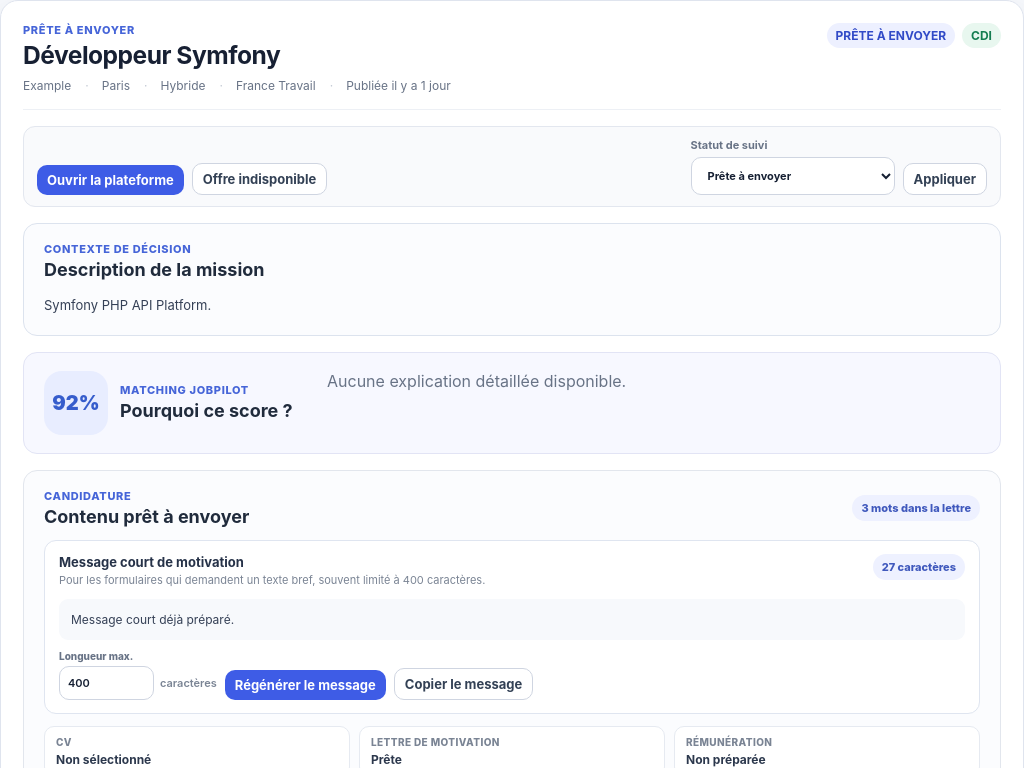
Test case: Review Queue motivation message › regenerates only the message with the chosen maximum length
Replace the text in the number field named "Longueur maximale du message court" with "250" at (106, 683), box [59,666,154,700]
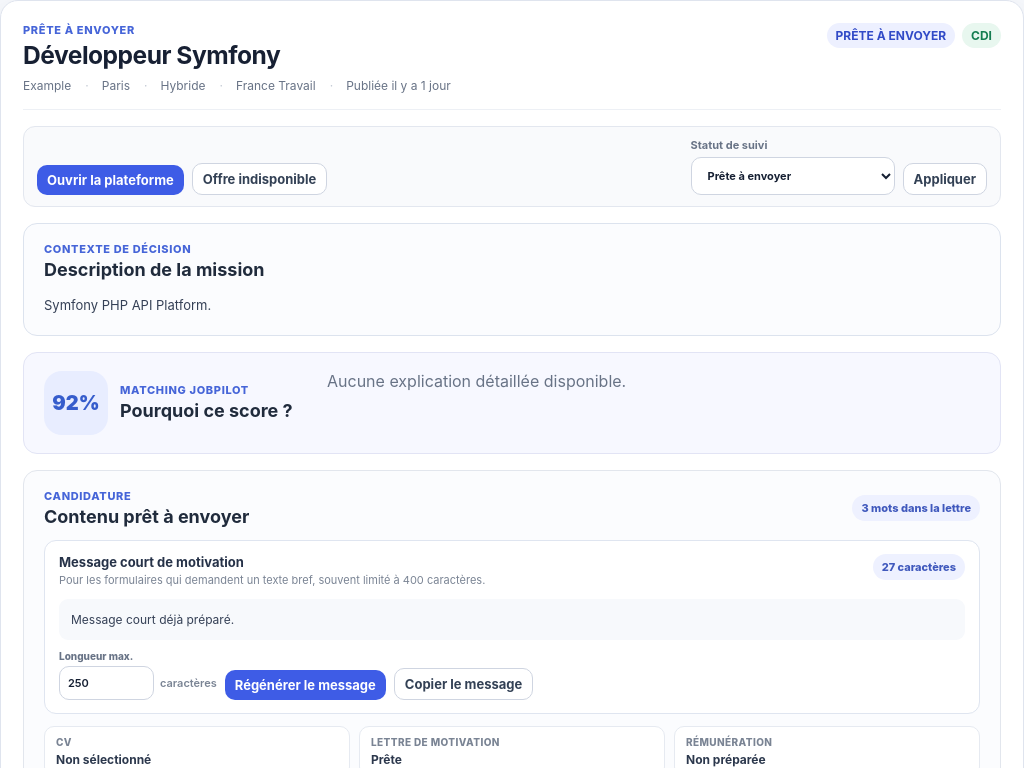
Click the button "Régénérer le message" at (305, 685), box [225,670,386,700]
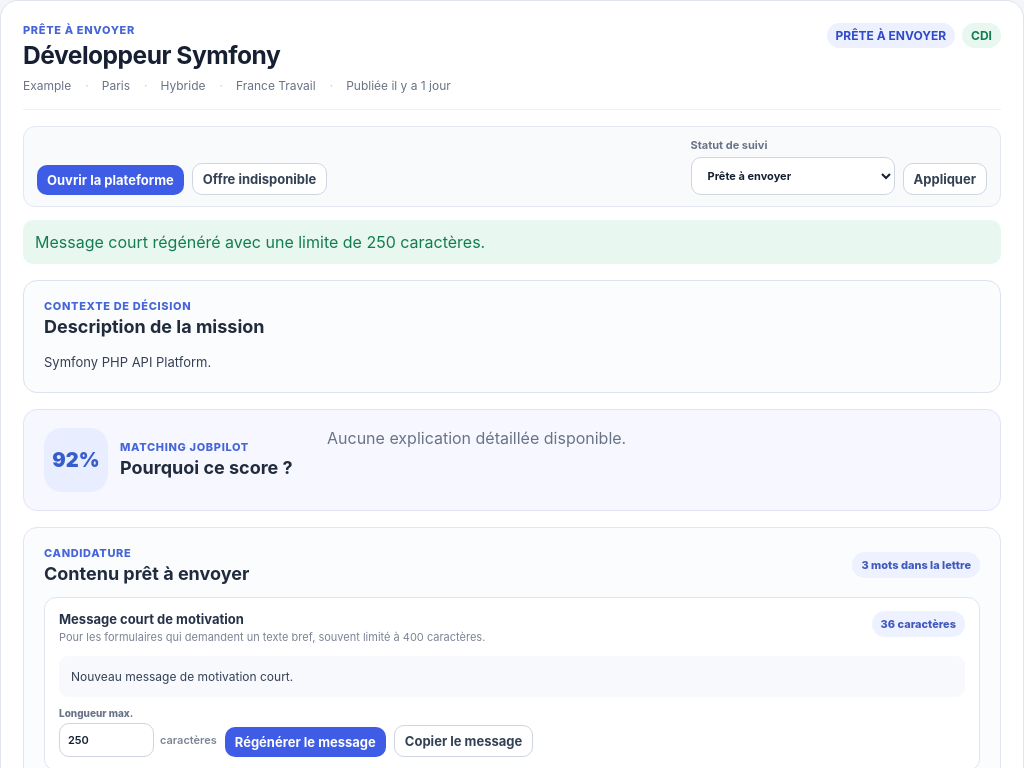
Check: the text "Nouveau message de motivation court." is shown, box [59,656,965,697]
Check: the message shows "limite de 250 caractères", box [35,232,485,252]
